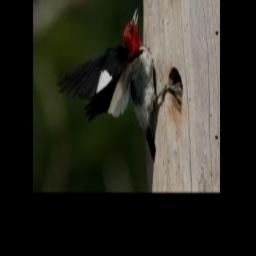Woodpecker: (59, 8, 181, 161)
